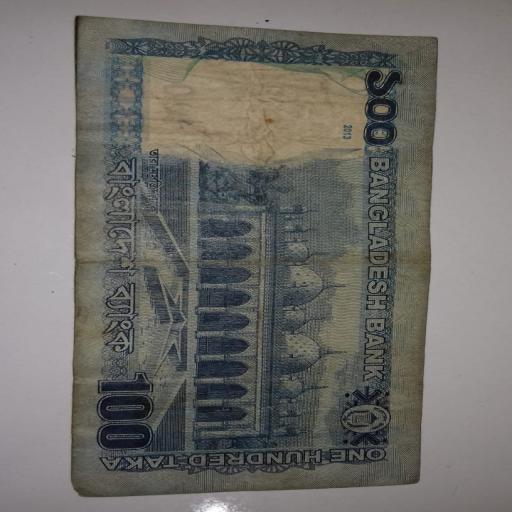100taka: (71, 13, 431, 502)
